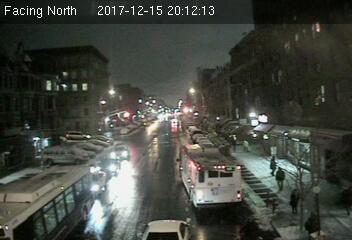bus: (2, 167, 88, 240), (177, 143, 244, 211)
car: (87, 169, 108, 196), (97, 154, 120, 173), (109, 145, 130, 159)
pedestrian: (274, 165, 287, 192), (269, 152, 278, 176)
